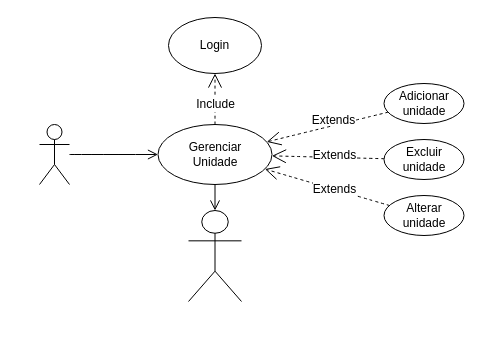
This 482x340 diagram has some shape labels left out. Here are the shapes that lost their labels. From the top down, the centre of each, then its label:
At point (54, 154): "Administrador".
At point (215, 256): "SGBD".
